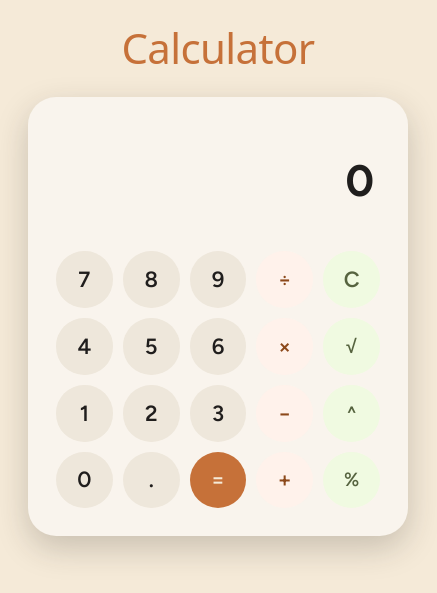
Test: input edge cases (ADR-0004) › rejects square root of a half-entered operation as empty input
Click the button "2" at (151, 413), box [123,385,180,442]
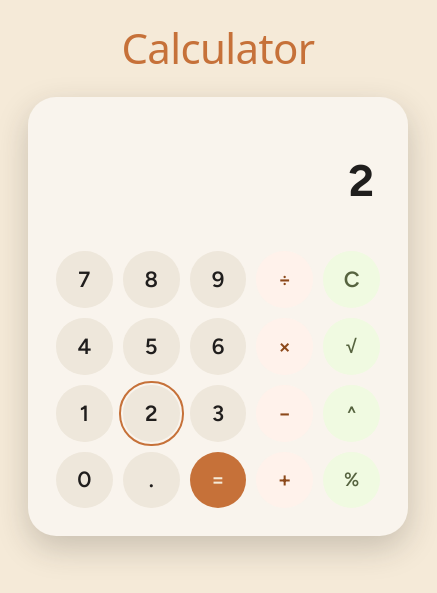
Click the button named "add" at (285, 480), box [256,452,313,508]
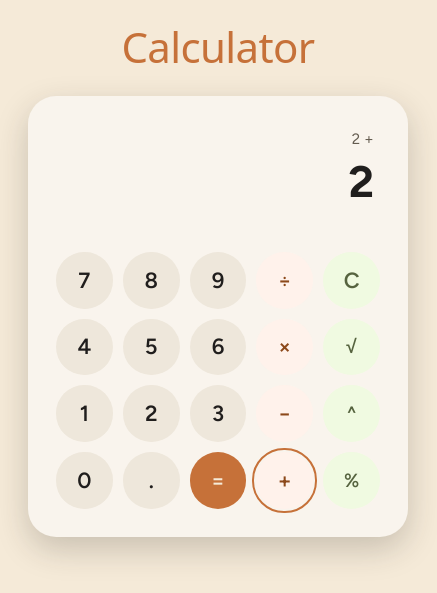
Click the button named "square root" at (352, 347), box [323,318,380,375]
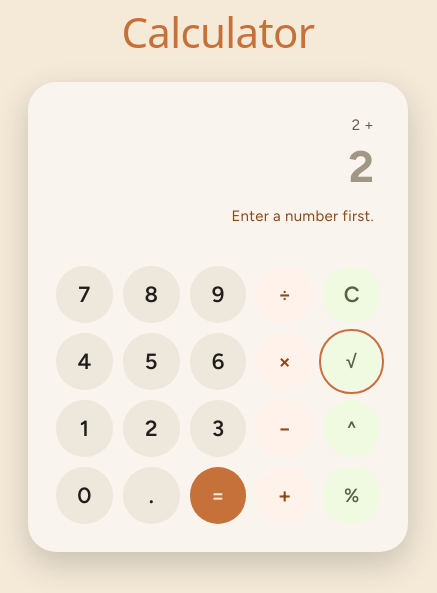
Expected: the message reads "Enter a number first.", [231,207,374,225]
